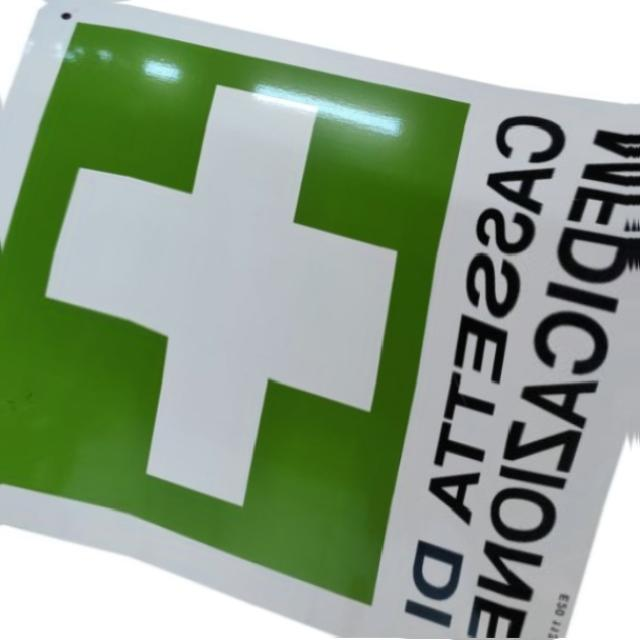first-aid: (11, 65, 418, 539)
